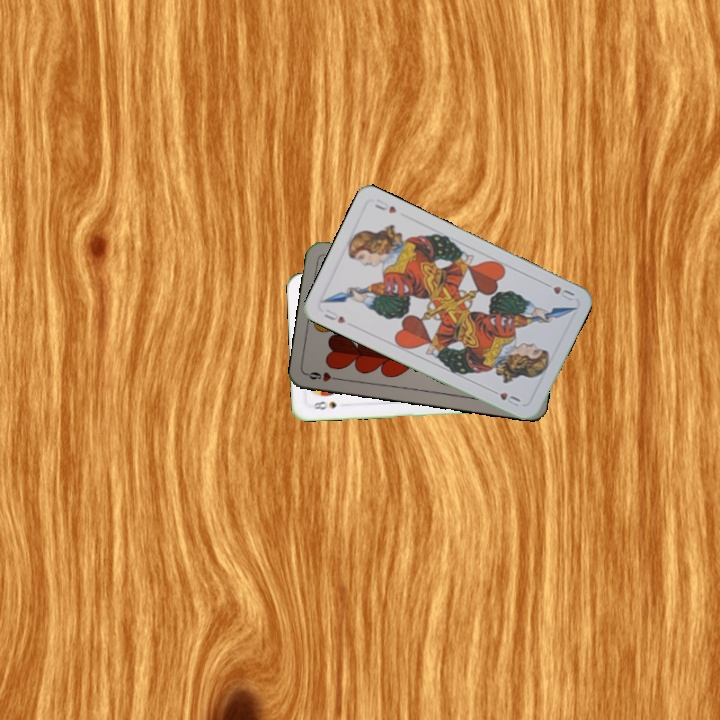H9: (303, 368, 344, 384)
HU: (320, 305, 349, 326), (549, 282, 577, 303)
S8: (306, 397, 339, 412)
